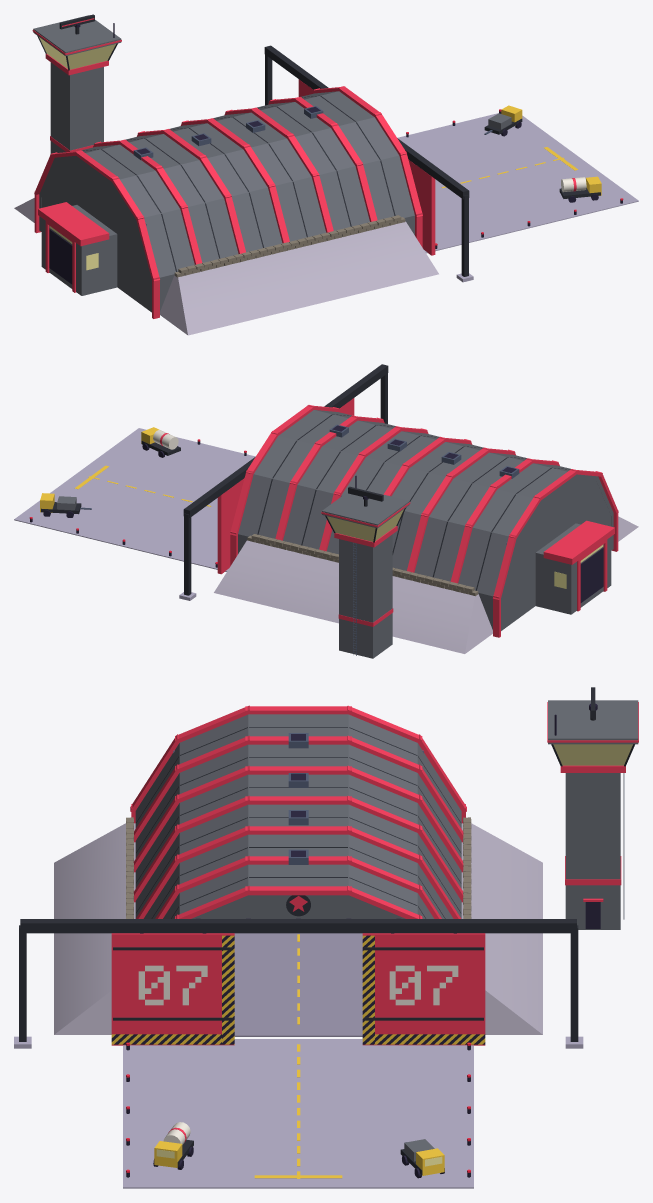
Rendered from hangar.glb.
The picture shows the model from 3 angles, top to bottom: view 1: azimuth 30°, elevation 25°; view 2: azimuth 150°, elevation 25°; view 3: azimuth 270°, elevation 25°; orthographic projection. The views are drawn at different scales.
Parts seen in each view (by area): view 1: hangar; view 2: hangar; view 3: hangar, hangar_leafS_hazard, hangar_leafN_hazard, hangar_leafS_dark, hangar_leafN_dark, hangar_leafS_white, hangar_leafN_white.
Boxes of the visible parts, box(x1,y1,x2,y2) form: hangar: box(14, 15, 638, 335); hangar: box(14, 364, 638, 658); hangar: box(14, 700, 638, 1188); hangar_leafS_hazard: box(362, 935, 485, 1044); hangar_leafN_hazard: box(111, 935, 234, 1044); hangar_leafS_dark: box(362, 935, 485, 1044); hangar_leafN_dark: box(111, 935, 234, 1044); hangar_leafS_white: box(389, 965, 458, 1005); hangar_leafN_white: box(138, 965, 207, 1005).
Bounding box in the file's own units: 66.9 × 19.55 × 49.85.
